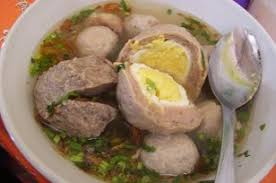bakso: (48, 20, 238, 171)
